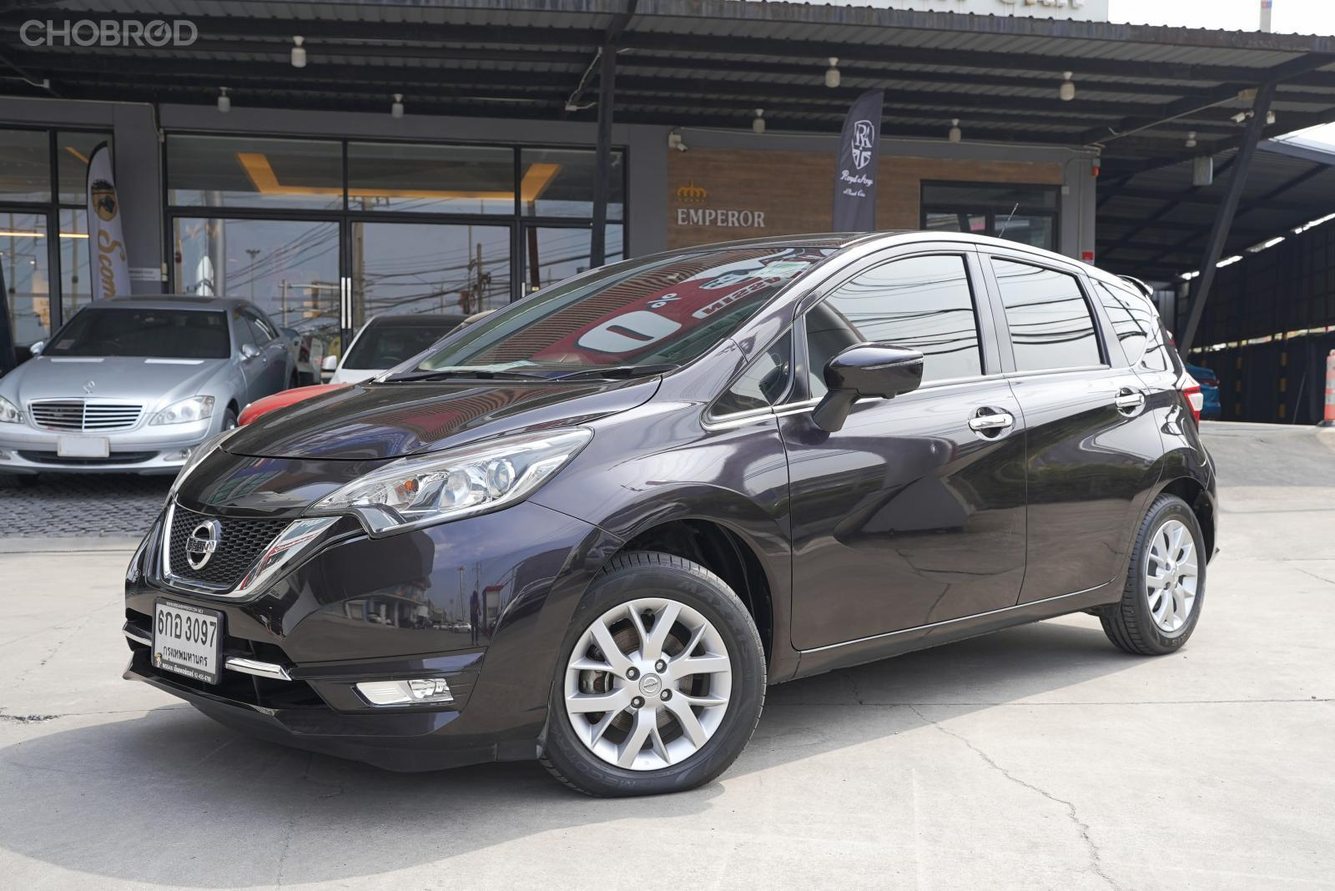license-plate: (135, 598, 239, 697)
